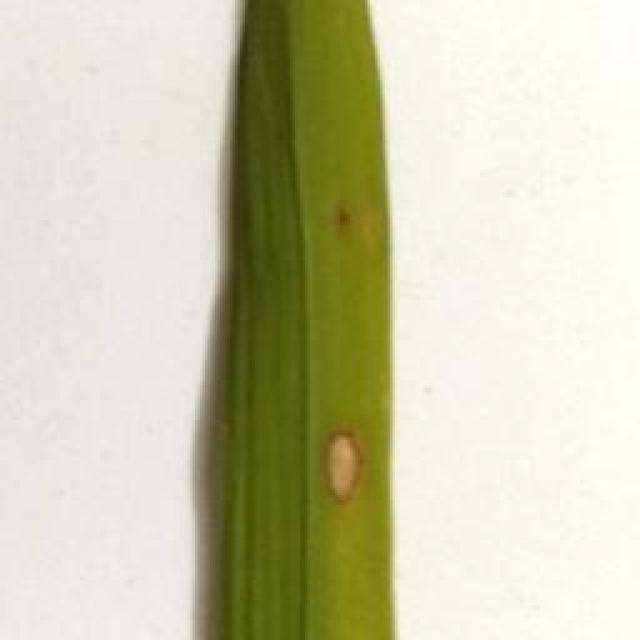Unhealthy: (322, 425, 367, 509), (335, 201, 353, 233)
